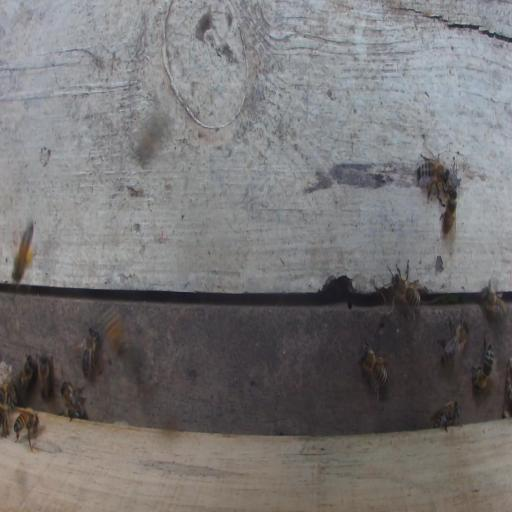nonpollenbee: (389, 260, 421, 326), (358, 338, 390, 403), (417, 143, 450, 204), (438, 317, 469, 371), (100, 304, 127, 357), (471, 333, 493, 392), (482, 279, 509, 324), (13, 407, 40, 449), (60, 380, 87, 419), (81, 325, 100, 380), (431, 399, 461, 433), (440, 191, 457, 241), (17, 353, 35, 396), (37, 353, 53, 401)
pollenbee: (11, 220, 35, 285)
